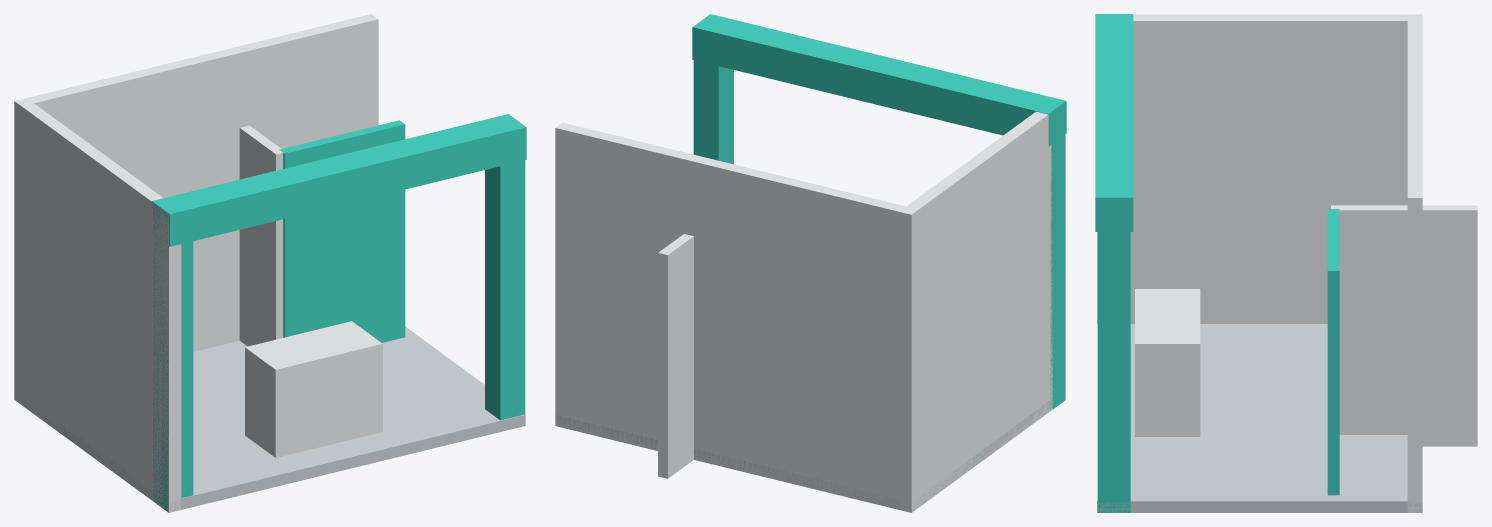
3 views of the same model, side by side, from view 1: azimuth 30°, elevation 25°; view 2: azimuth 150°, elevation 25°; view 3: azimuth 270°, elevation 25° (orthographic). The views are drawn at different scales.
Visible parts, largest first — view 1: Exhibition Booth Concept; view 2: Exhibition Booth Concept; view 3: Exhibition Booth Concept.
Boxes of the visible parts, <box> form: Exhibition Booth Concept: <box>14,14,526,512</box>; Exhibition Booth Concept: <box>555,14,1066,512</box>; Exhibition Booth Concept: <box>1095,14,1477,512</box>.
Bounding box in the file's own units: 4 × 3.2 × 3.52.
